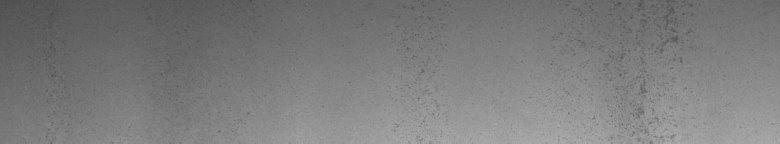ib: (571, 4, 694, 136)
